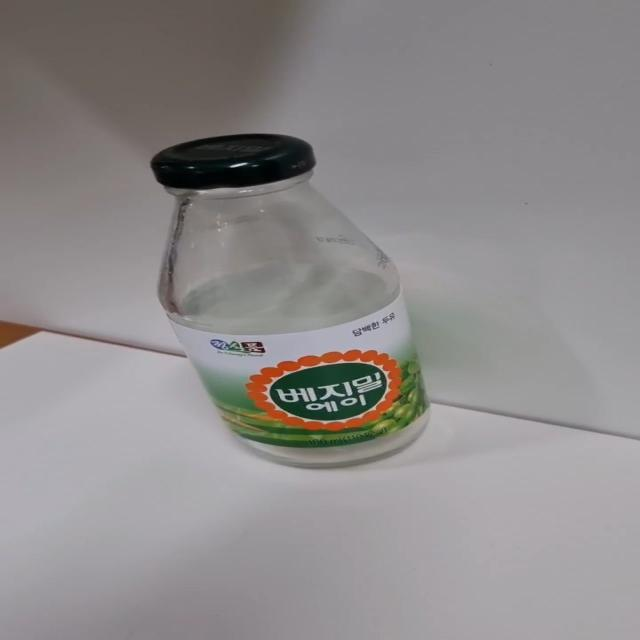Glass: (143, 134, 436, 471)
